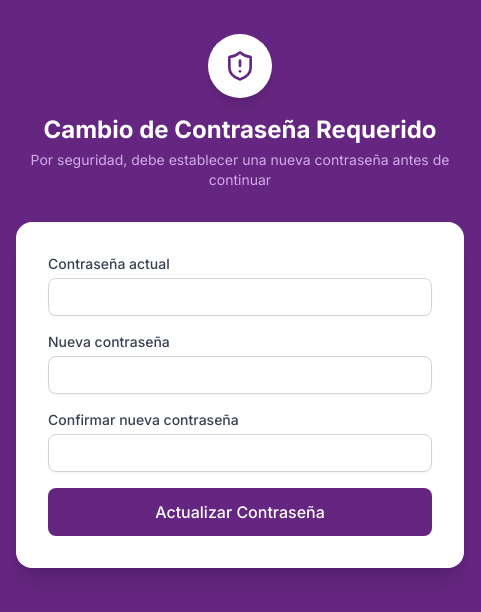
ChangePasswordPage › valida contraseña nueva débil
This screenshot has width=481, height=612.
Type "actual123" into the password field labelled "Contraseña actual".
click(240, 297); type("actual123")  # box [48, 278, 432, 316]
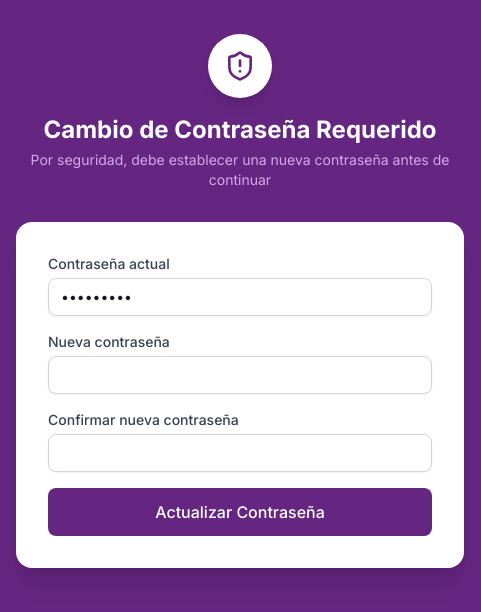
Type "debil" into the password field labelled "Nueva contraseña".
click(240, 375); type("debil")  # box [48, 356, 432, 394]
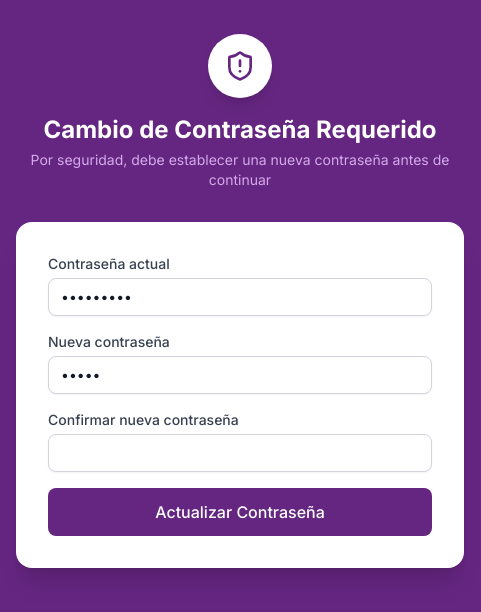
Type "debil" into the password field labelled "Confirmar nueva contraseña".
click(240, 453); type("debil")  # box [48, 434, 432, 472]
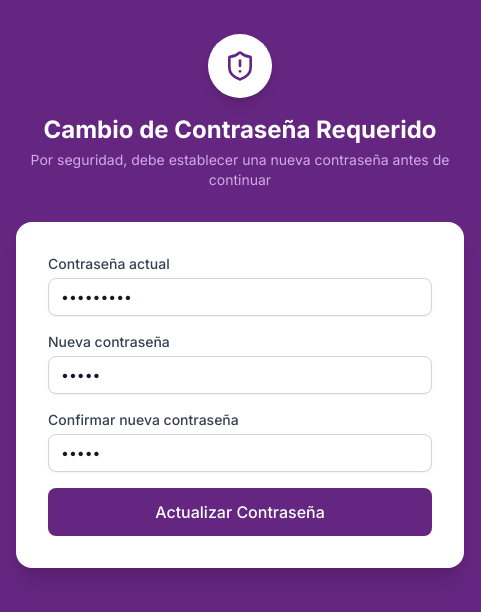
Click the button "Actualizar Contraseña".
click(240, 512)  # box [48, 488, 432, 536]
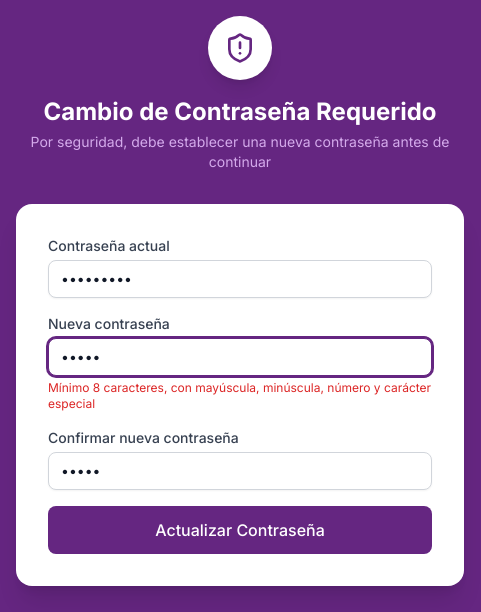
Check: the text "Mínimo 8 caracteres" is shown, box [48, 380, 431, 411]
